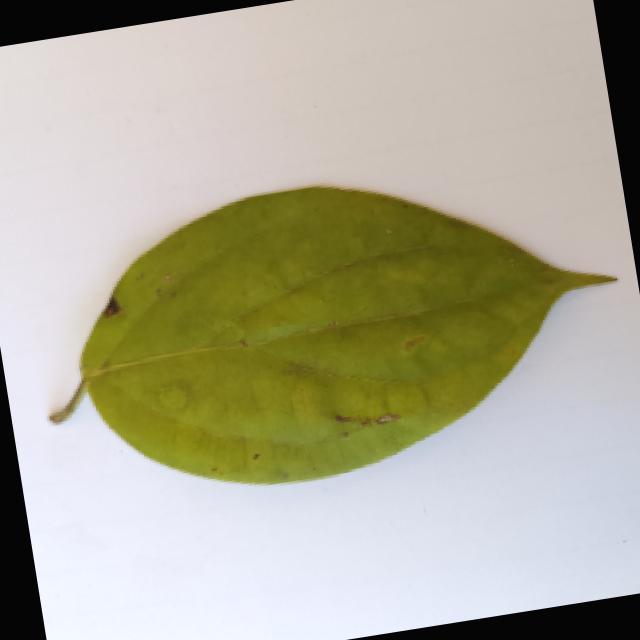slow-decline: (15, 126, 640, 520)
